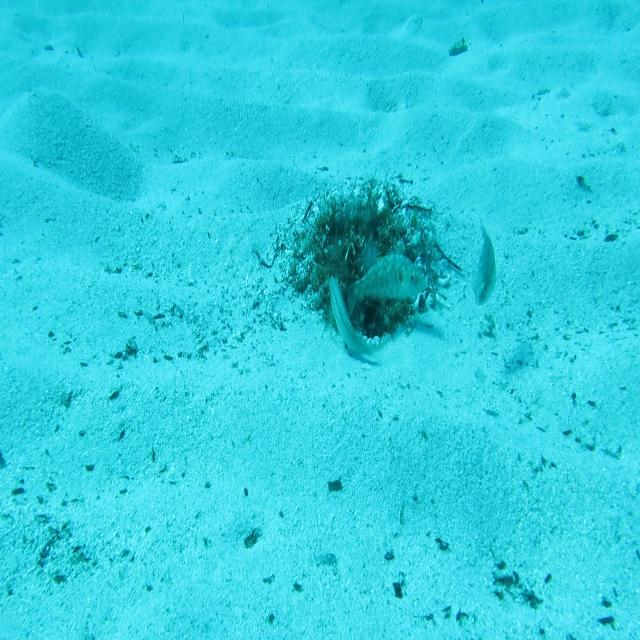LF: (346, 239, 429, 316)
core_nest: (356, 212, 400, 247)
female: (330, 274, 388, 363), (473, 212, 497, 306)
nest: (275, 174, 459, 352)
vegetation: (448, 33, 469, 58), (237, 528, 263, 548), (323, 475, 343, 494)
